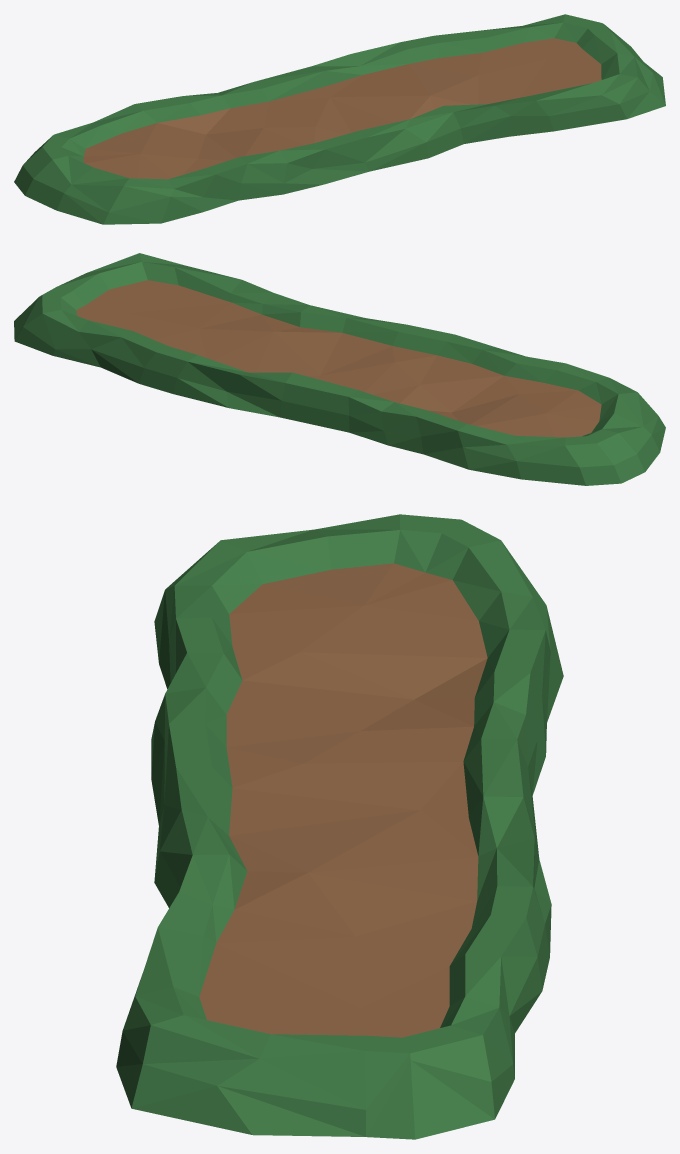
File: Rice_Field_1 Asia.fbx
3 renders of one model, top to bottom at view 1: azimuth 30°, elevation 25°; view 2: azimuth 150°, elevation 25°; view 3: azimuth 270°, elevation 25°, orthographic. The views are drawn at different scales.
Visible parts, largest first — view 1: Rice_Field_1; view 2: Rice_Field_1; view 3: Rice_Field_1.
Part boxes in pixels (left/top/right/bottom): Rice_Field_1: left=14, top=14, right=665, bottom=224; Rice_Field_1: left=14, top=253, right=665, bottom=485; Rice_Field_1: left=116, top=514, right=563, bottom=1139.
Bounding box in the file's own units: 21.83 × 1.12 × 7.
